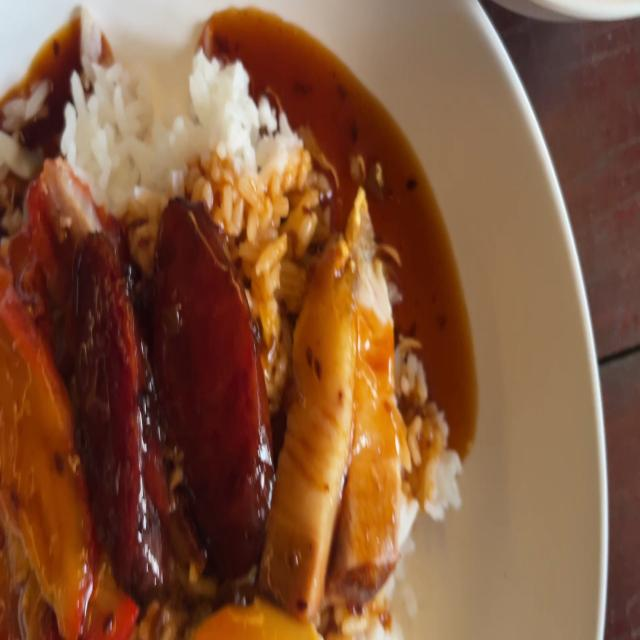01chainese_sausage: (69, 200, 268, 577), (148, 192, 270, 556), (73, 230, 162, 576)
01crispy_pork: (272, 198, 402, 601), (274, 248, 349, 591), (344, 205, 388, 571)
01red_pork: (0, 276, 90, 640), (36, 166, 105, 303)
01red_pork_and_crispy_pork: (0, 9, 458, 640)
01rice: (69, 30, 360, 222)
